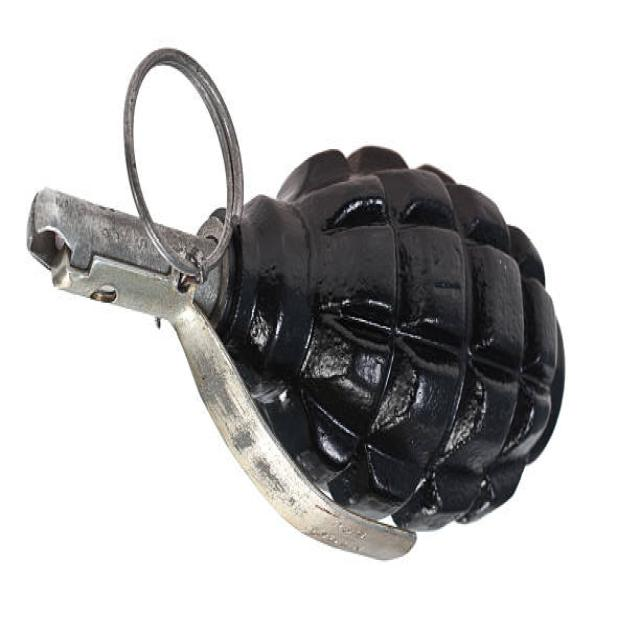grenade: (17, 36, 579, 578)
